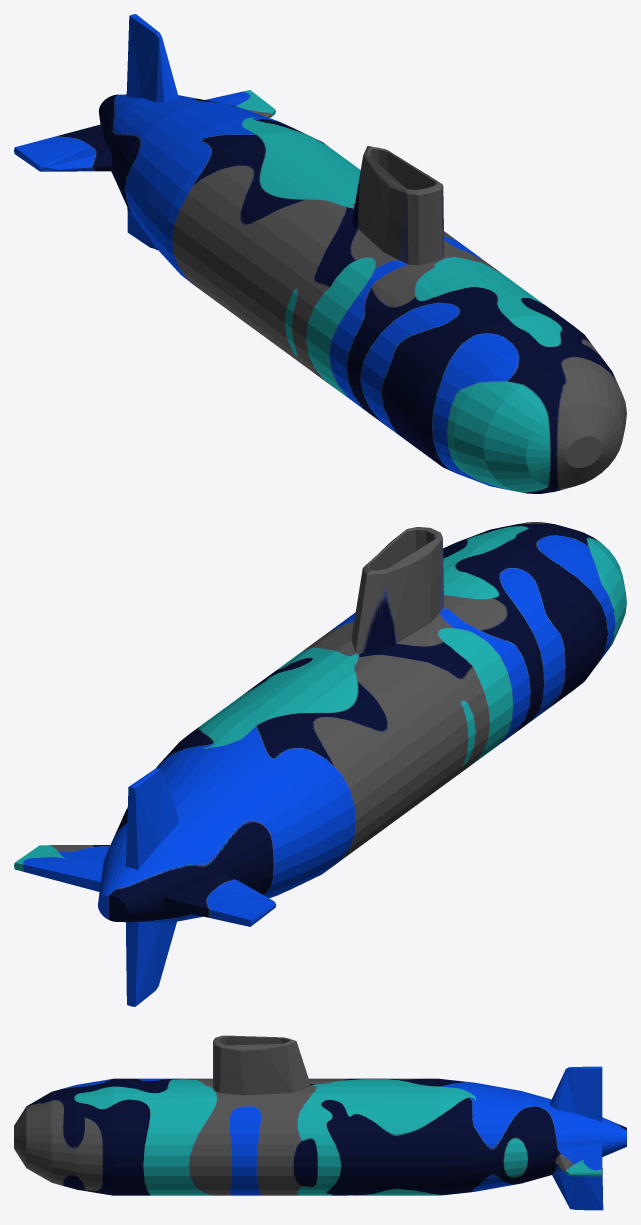
The model's file is mahecha.obj.
The picture shows the model from 3 angles, top to bottom: view 1: azimuth 30°, elevation 25°; view 2: azimuth 150°, elevation 25°; view 3: azimuth 270°, elevation 25°; orthographic projection. The views are drawn at different scales.
Visible parts, largest first — view 1: hull_Cylinder; view 2: hull_Cylinder; view 3: hull_Cylinder.
Boxes of the visible parts, x1=… form: hull_Cylinder: x1=14, y1=14, x2=626, y2=493; hull_Cylinder: x1=14, y1=522, x2=626, y2=1006; hull_Cylinder: x1=14, y1=1035, x2=626, y2=1210.
Size of the model in its own units: 6.44 by 6.76 by 22.13.
